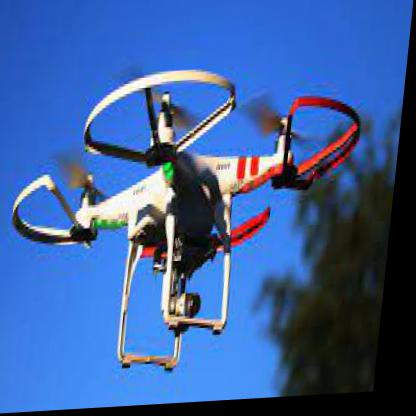UAS: (3, 63, 371, 382)
